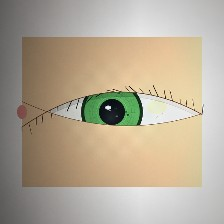pinguecula_lesion: (136, 91, 177, 123)
